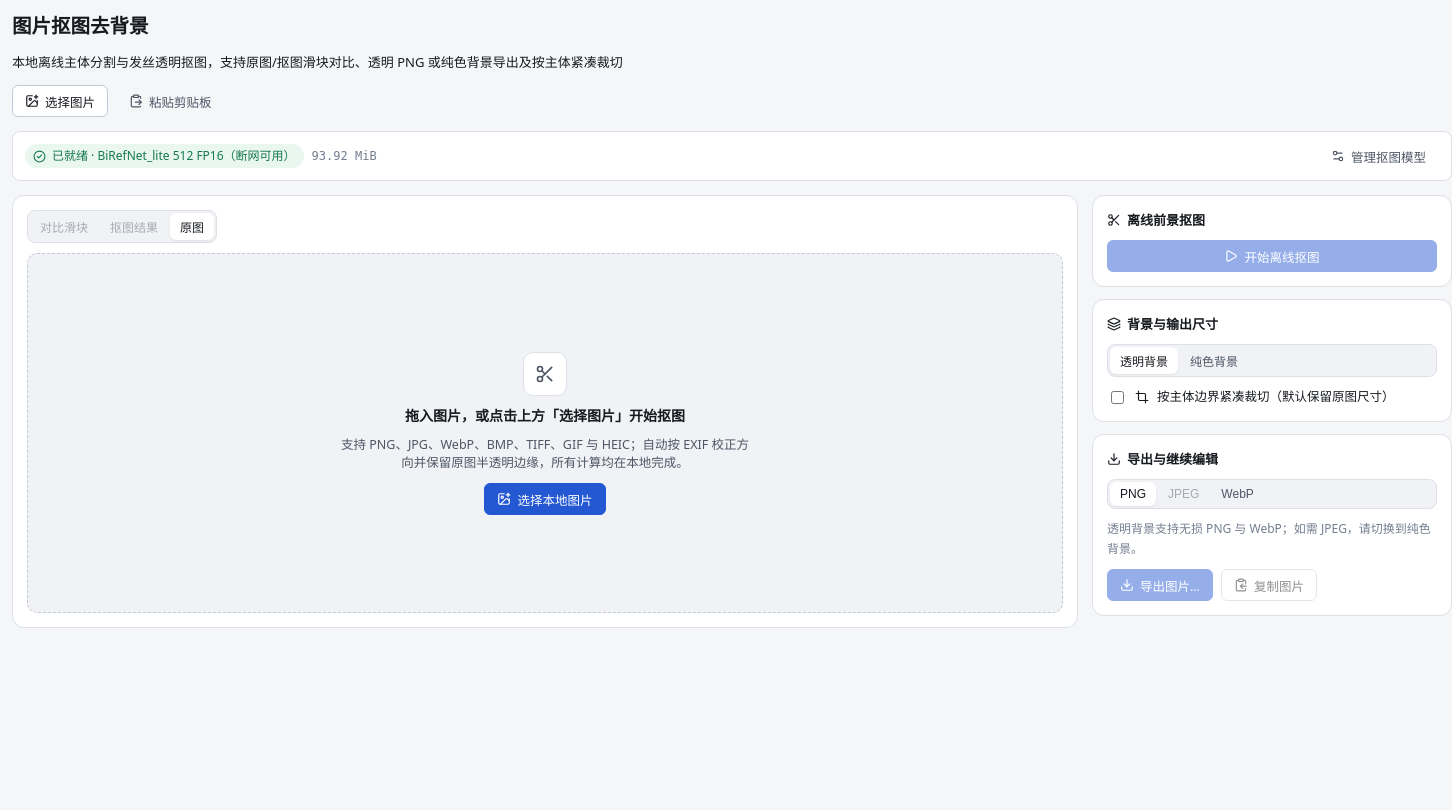
RemoveBackgroundWorkspace (I04) › preserves loaded cutout result and export settings across tool navigation unmount/remount
This screenshot has width=1452, height=810.
Later steps or results of the test are not shown.
expect the element with test id "matting-model-compact-bar" is shown: met, box [12,131,1451,181]
Click the button with test id "i04-pick-image-btn" at (60, 101), box [12,85,108,117]
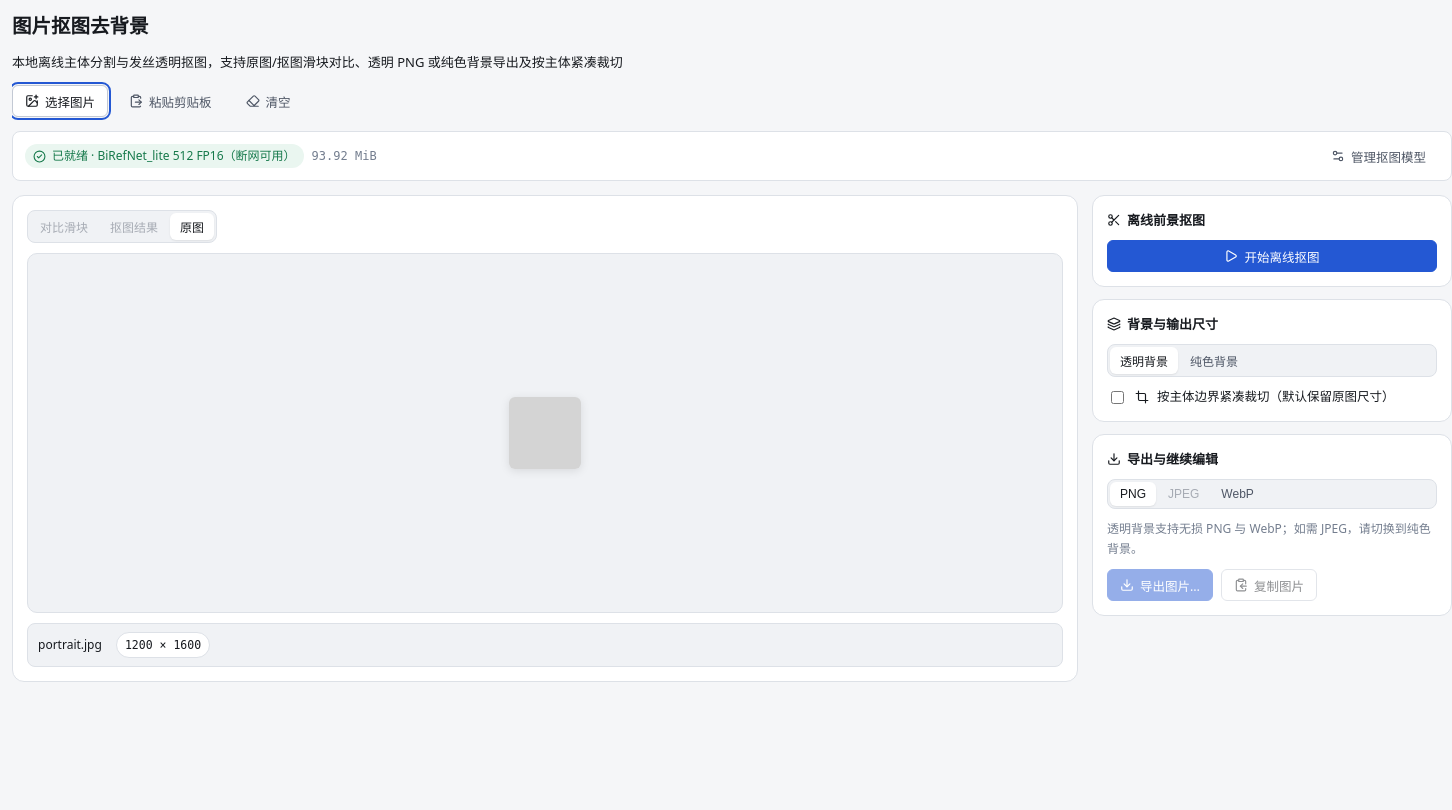
expect the button with test id "i04-start-btn" is enabled: met, box [1107,240,1437,272]
